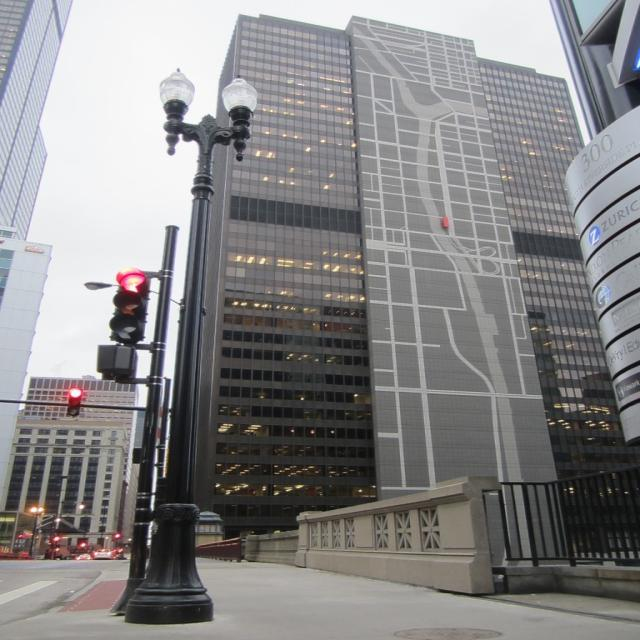traffic light: (114, 265, 148, 343), (67, 387, 82, 418)
